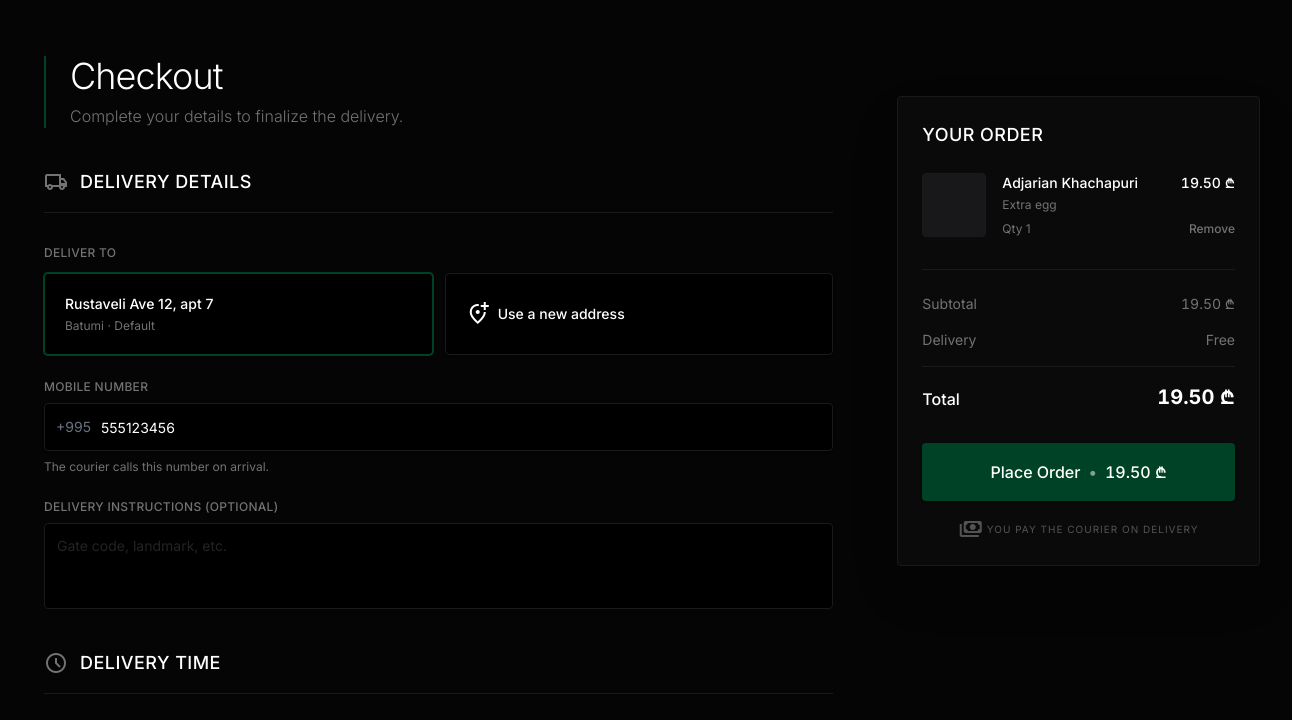
Test: Checkout › shows validation errors next to their fields and sends nothing
Expected: the radio button labelled "Rustaveli Ave 12, apt 7 Batumi · Default" is shown, [44,273,433,355]
Replace the text in the field labelled "Mobile number" with "12345" at point(439, 427), box [44,403,833,451]
(page scrolled)
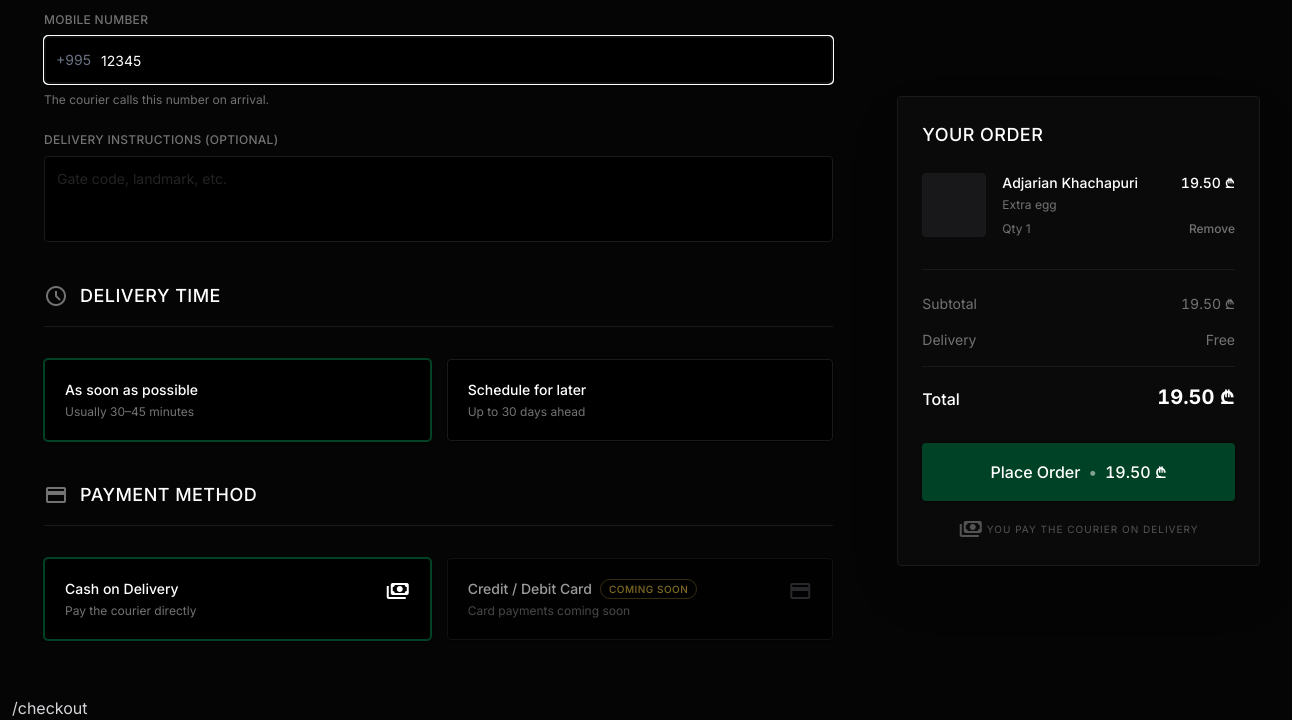
Click the radio button labelled "Schedule for later Up to 30 days ahead" at point(527, 390), box [447,359,833,441]
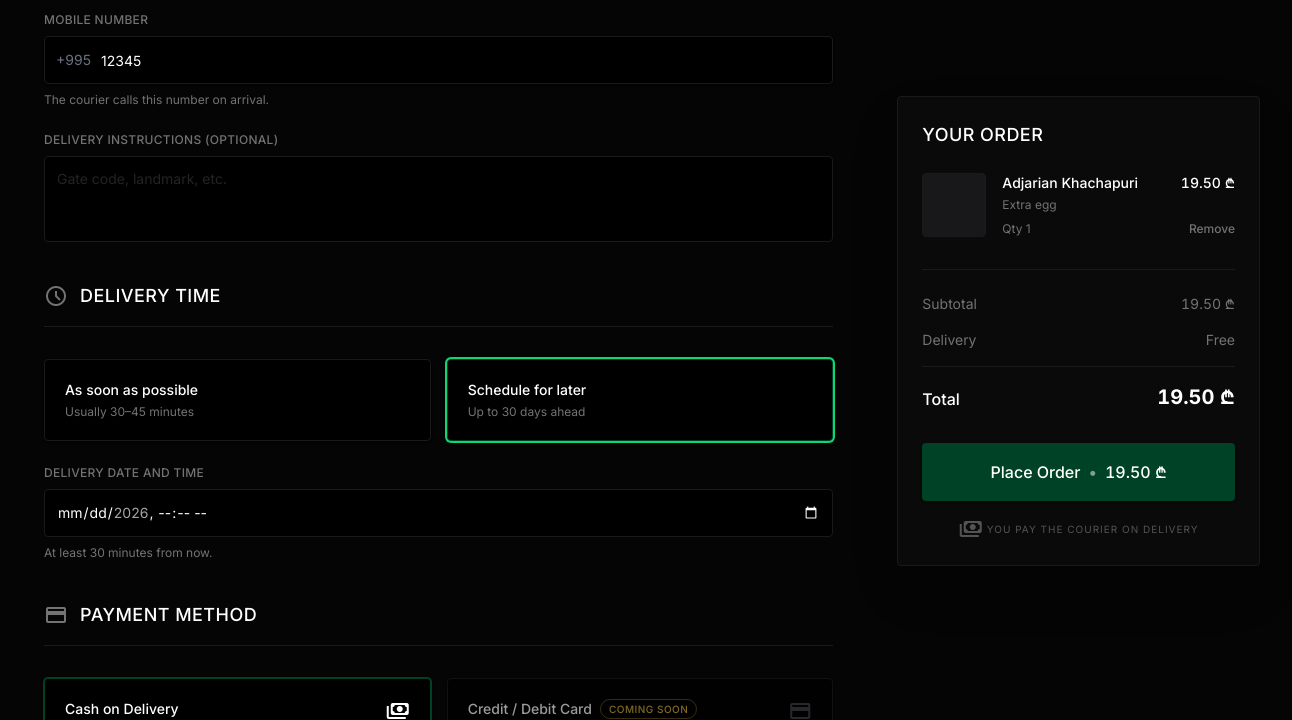
Click the button "Place Order • 19.50 ₾" at point(1079, 472), box [922,443,1235,501]
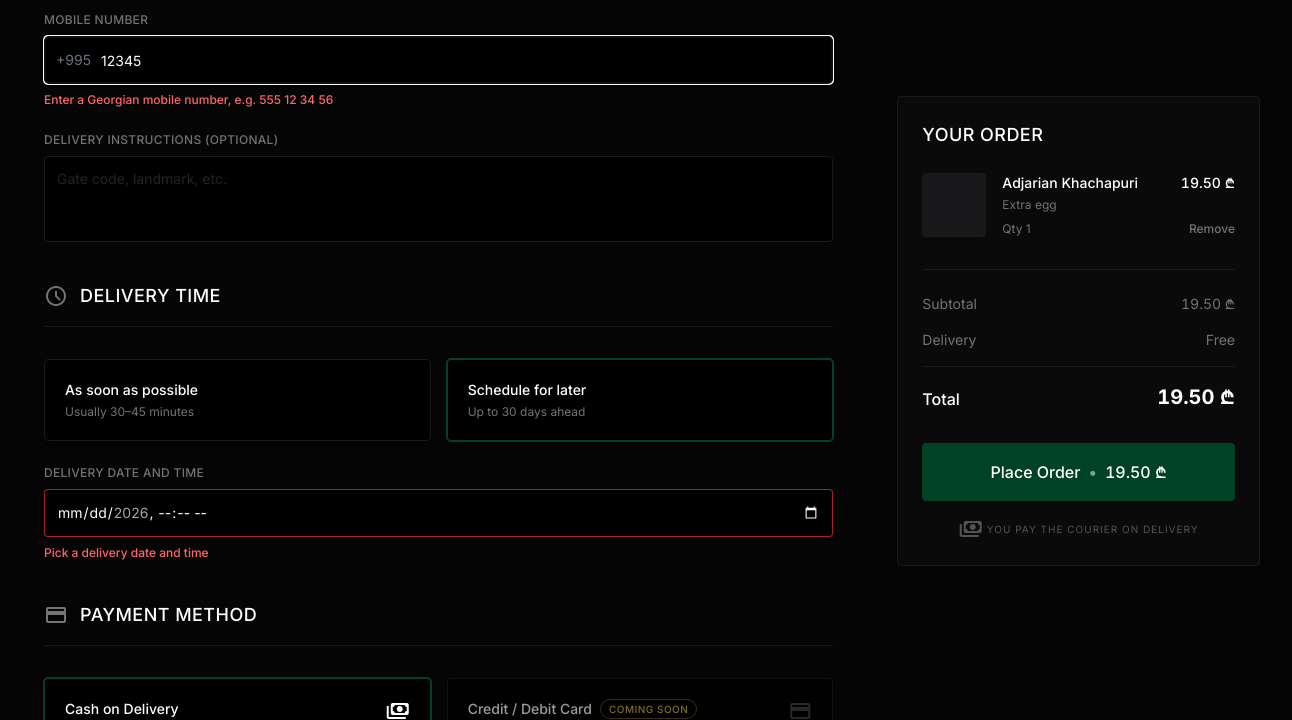
Expected: the text "Enter a Georgian mobile number, e.g. 555 12 34 56" is shown, [44,92,333,107]
Expected: the text "Pick a delivery date and time" is shown, [44,545,209,560]
